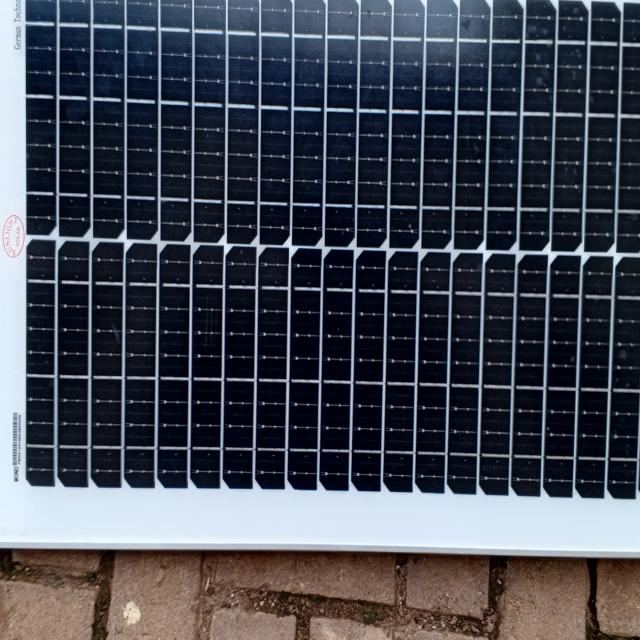Clean: (15, 1, 640, 519)
